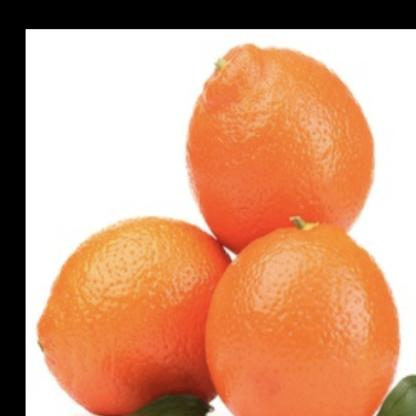fresh: (41, 43, 401, 416)
